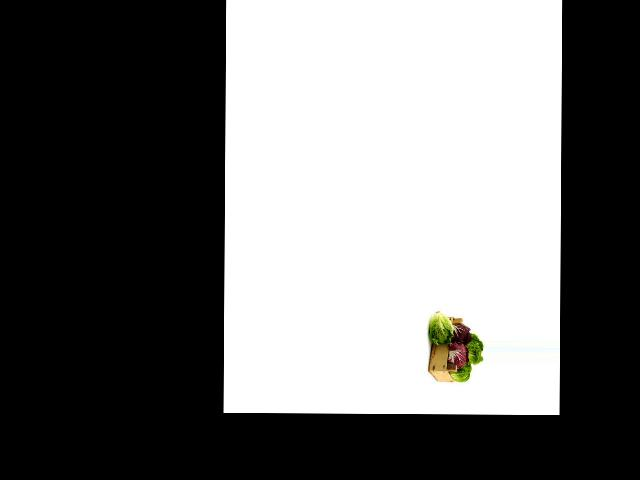lettuce: (462, 333, 483, 364)
